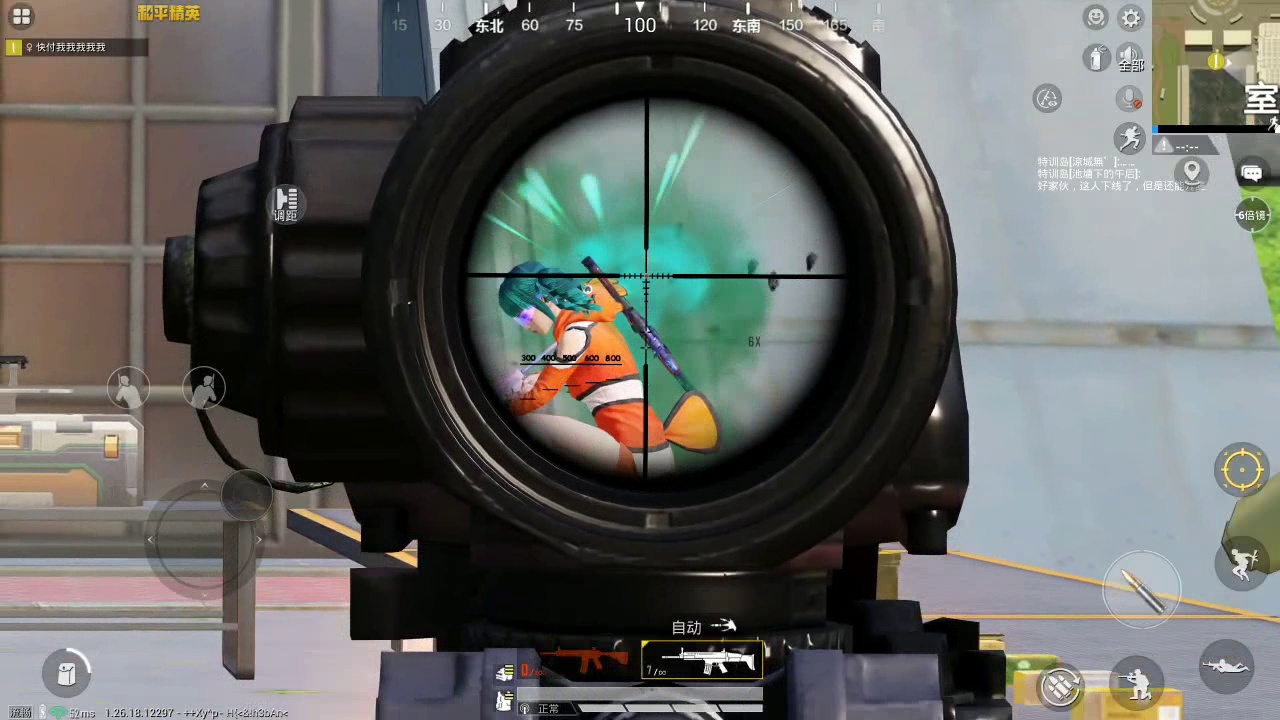enemy: (499, 260, 693, 473)
